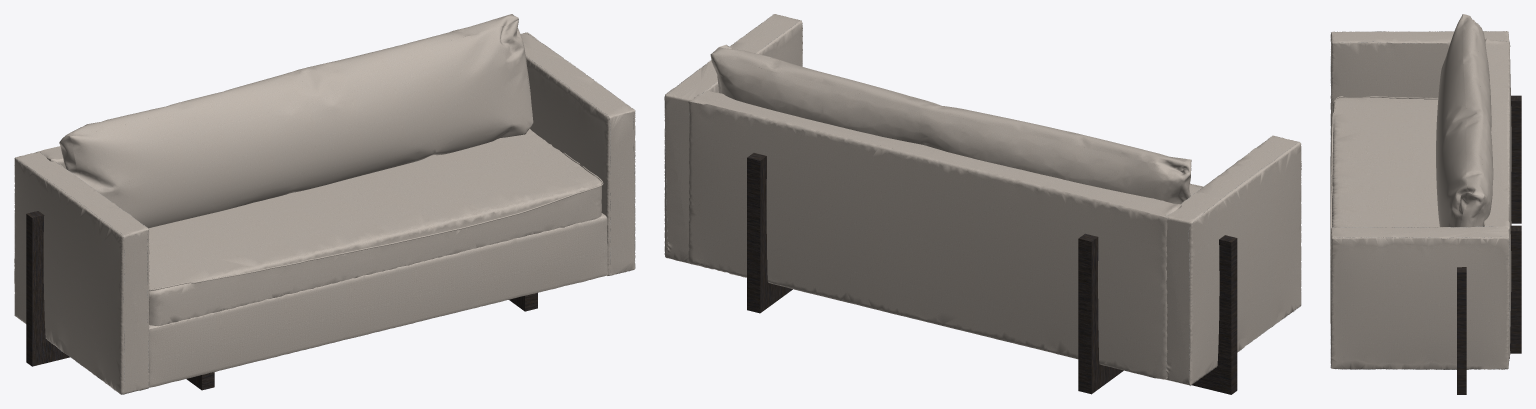
The model's file is tan_modern_livingroom_sofa_with_wood_support.glb.
The picture shows the model from 3 angles, left to right: view 1: azimuth 30°, elevation 25°; view 2: azimuth 150°, elevation 25°; view 3: azimuth 270°, elevation 25°; orthographic projection. The views are drawn at different scales.
Parts seen in each view (by area): view 1: back cushion_5, seat cushion_4, sides_2, base_3, SV - Sofa 1_0; view 2: Back_1, sides_2, back cushion_5, SV - Sofa 1_0; view 3: sides_2, seat cushion_4, back cushion_5, Back_1, SV - Sofa 1_0, base_3.
Boxes of the visible parts, left/top/right/bottom form: back cushion_5: left=59, top=14, right=533, bottom=228; seat cushion_4: left=148, top=128, right=603, bottom=326; sides_2: left=14, top=32, right=635, bottom=394; base_3: left=149, top=213, right=607, bottom=387; SV - Sofa 1_0: left=26, top=211, right=537, bottom=390; Back_1: left=688, top=90, right=1181, bottom=379; sides_2: left=664, top=14, right=1301, bottom=385; back cushion_5: left=710, top=44, right=1191, bottom=203; SV - Sofa 1_0: left=747, top=153, right=1237, bottom=394; sides_2: left=1330, top=31, right=1509, bottom=369; seat cushion_4: left=1330, top=96, right=1439, bottom=268; back cushion_5: left=1436, top=14, right=1493, bottom=227; Back_1: left=1483, top=38, right=1511, bottom=358; SV - Sofa 1_0: left=1457, top=95, right=1521, bottom=394; base_3: left=1330, top=125, right=1331, bottom=335.
Size of the model in its own units: 88.88 by 34.95 by 32.98.
3 materials, 2 textured.
